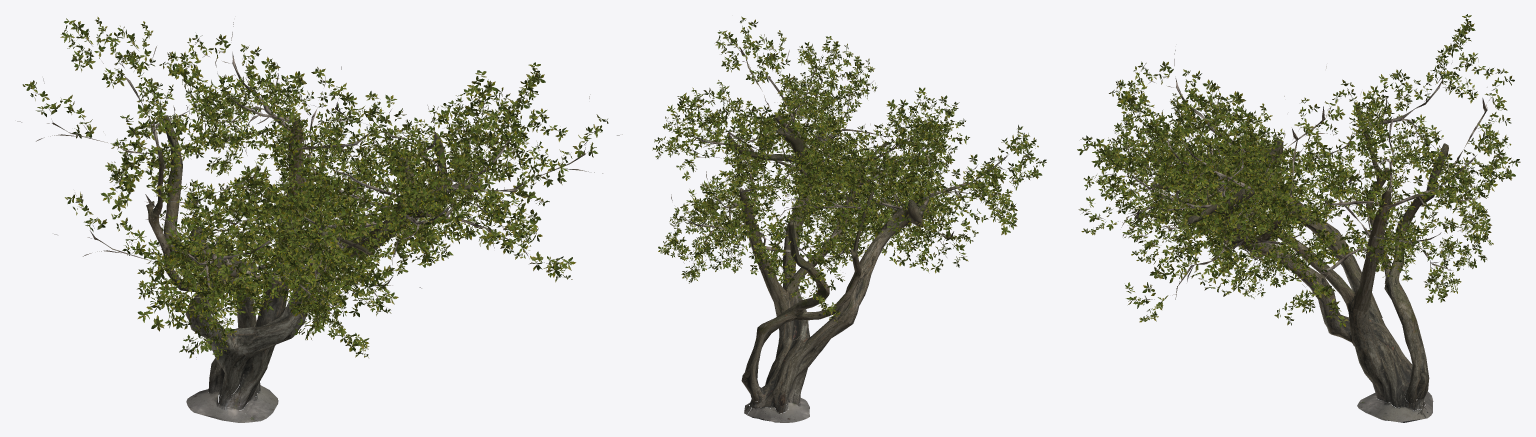
File: island_tree_02.fbx
3 renders of one model, left to right at view 1: azimuth 30°, elevation 25°; view 2: azimuth 150°, elevation 25°; view 3: azimuth 270°, elevation 25°, orthographic. The views are drawn at different scales.
Visible parts, largest first — view 1: island_tree_02_LOD0; view 2: island_tree_02_LOD0; view 3: island_tree_02_LOD0.
Boxes of the visible parts, bbox=[...] form: island_tree_02_LOD0: bbox=[17, 17, 622, 422]; island_tree_02_LOD0: bbox=[652, 16, 1046, 422]; island_tree_02_LOD0: bbox=[1077, 14, 1520, 422].
Bounding box in the file's own units: 412 × 407 × 341.
